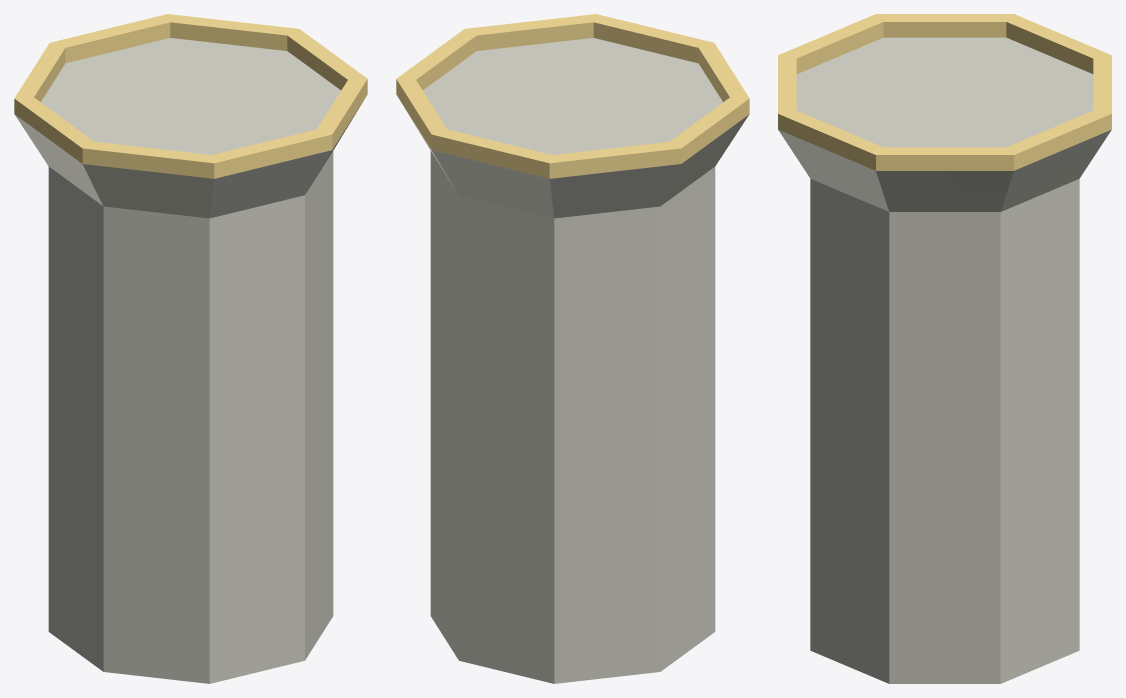
File: Building_Castle_Tower_Base_Large_01.fbx
3 views of the same model, side by side, from view 1: azimuth 30°, elevation 25°; view 2: azimuth 150°, elevation 25°; view 3: azimuth 270°, elevation 25° (orthographic).
Parts seen in each view (by area): view 1: Building_Castle_Tower_Base_Large_01; view 2: Building_Castle_Tower_Base_Large_01; view 3: Building_Castle_Tower_Base_Large_01.
Part boxes in pixels (left/top/right/bottom): Building_Castle_Tower_Base_Large_01: left=14, top=14, right=367, bottom=683; Building_Castle_Tower_Base_Large_01: left=396, top=14, right=749, bottom=683; Building_Castle_Tower_Base_Large_01: left=778, top=14, right=1111, bottom=683.
Size of the model in its own units: 5782 by 10366 by 5782.
